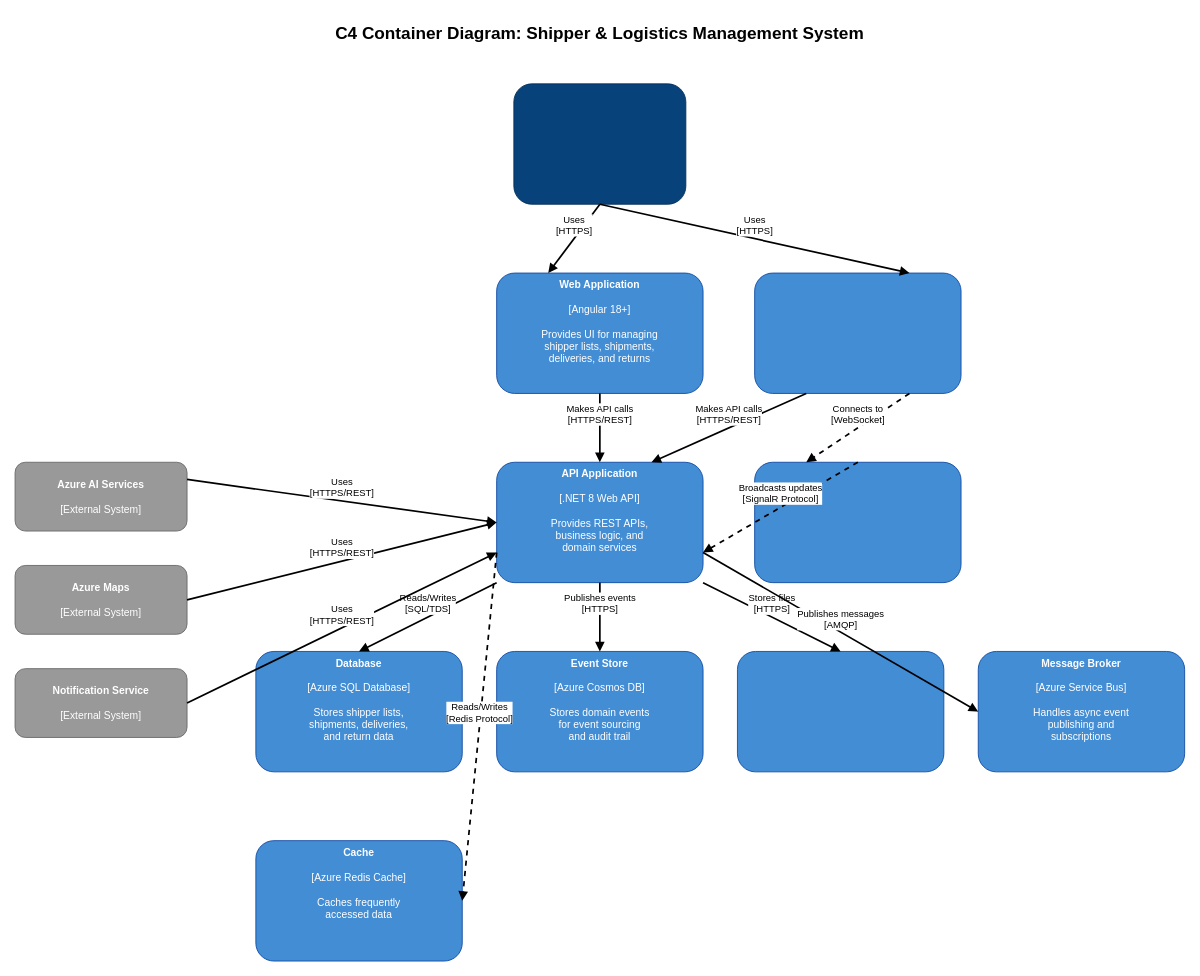
Some shapes in this 1200 by 976 pixel diagram are drawn without their labels. The centre of each missing label's shape, as x and y in pixels:
"Blob Storage [Azure Blob Storage] Stores signatures, damage photos, and exports" belongs at pixel 840 711.
"Mobile Application [PWA] Mobile interface for drivers and field staff" belongs at pixel 857 332.
"SignalR Hub [Azure SignalR] Provides real-time shipment tracking updates" belongs at pixel 857 522.
"System Users [Person] Event Managers, Logistics, Warehouse, Drivers, Venue Staff" belongs at pixel 599 143.
